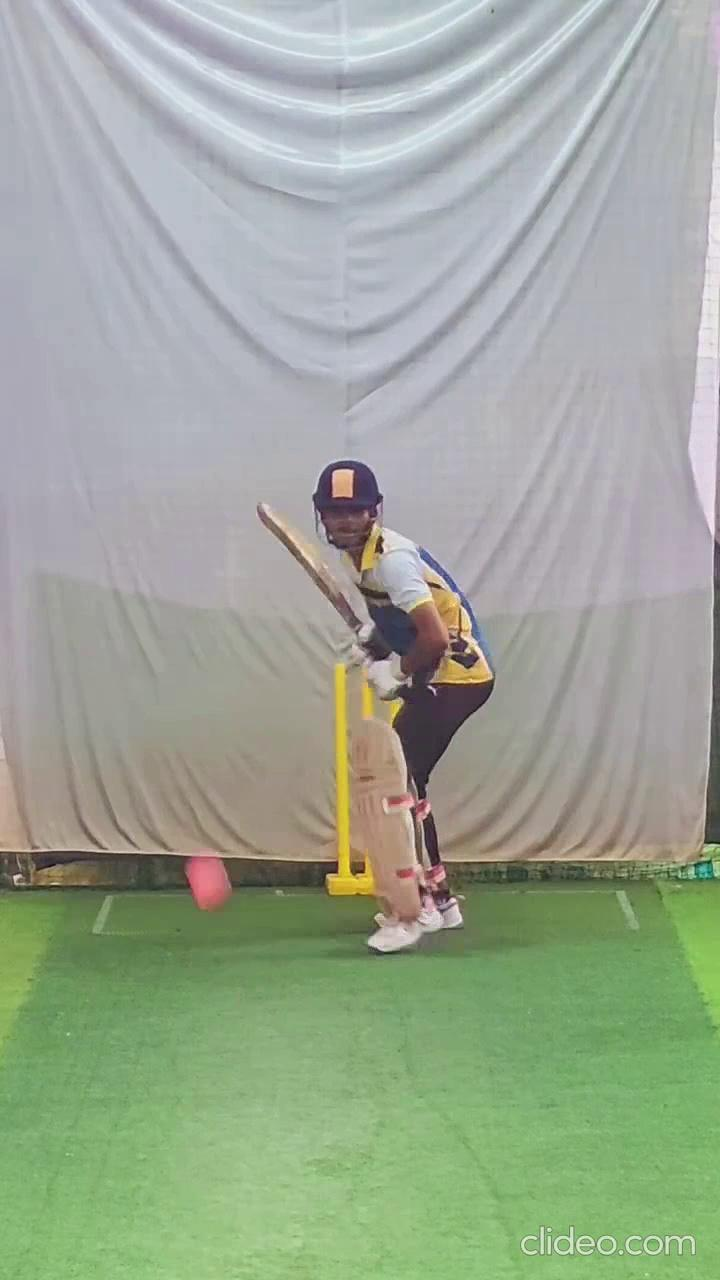bat: (247, 486, 370, 644)
